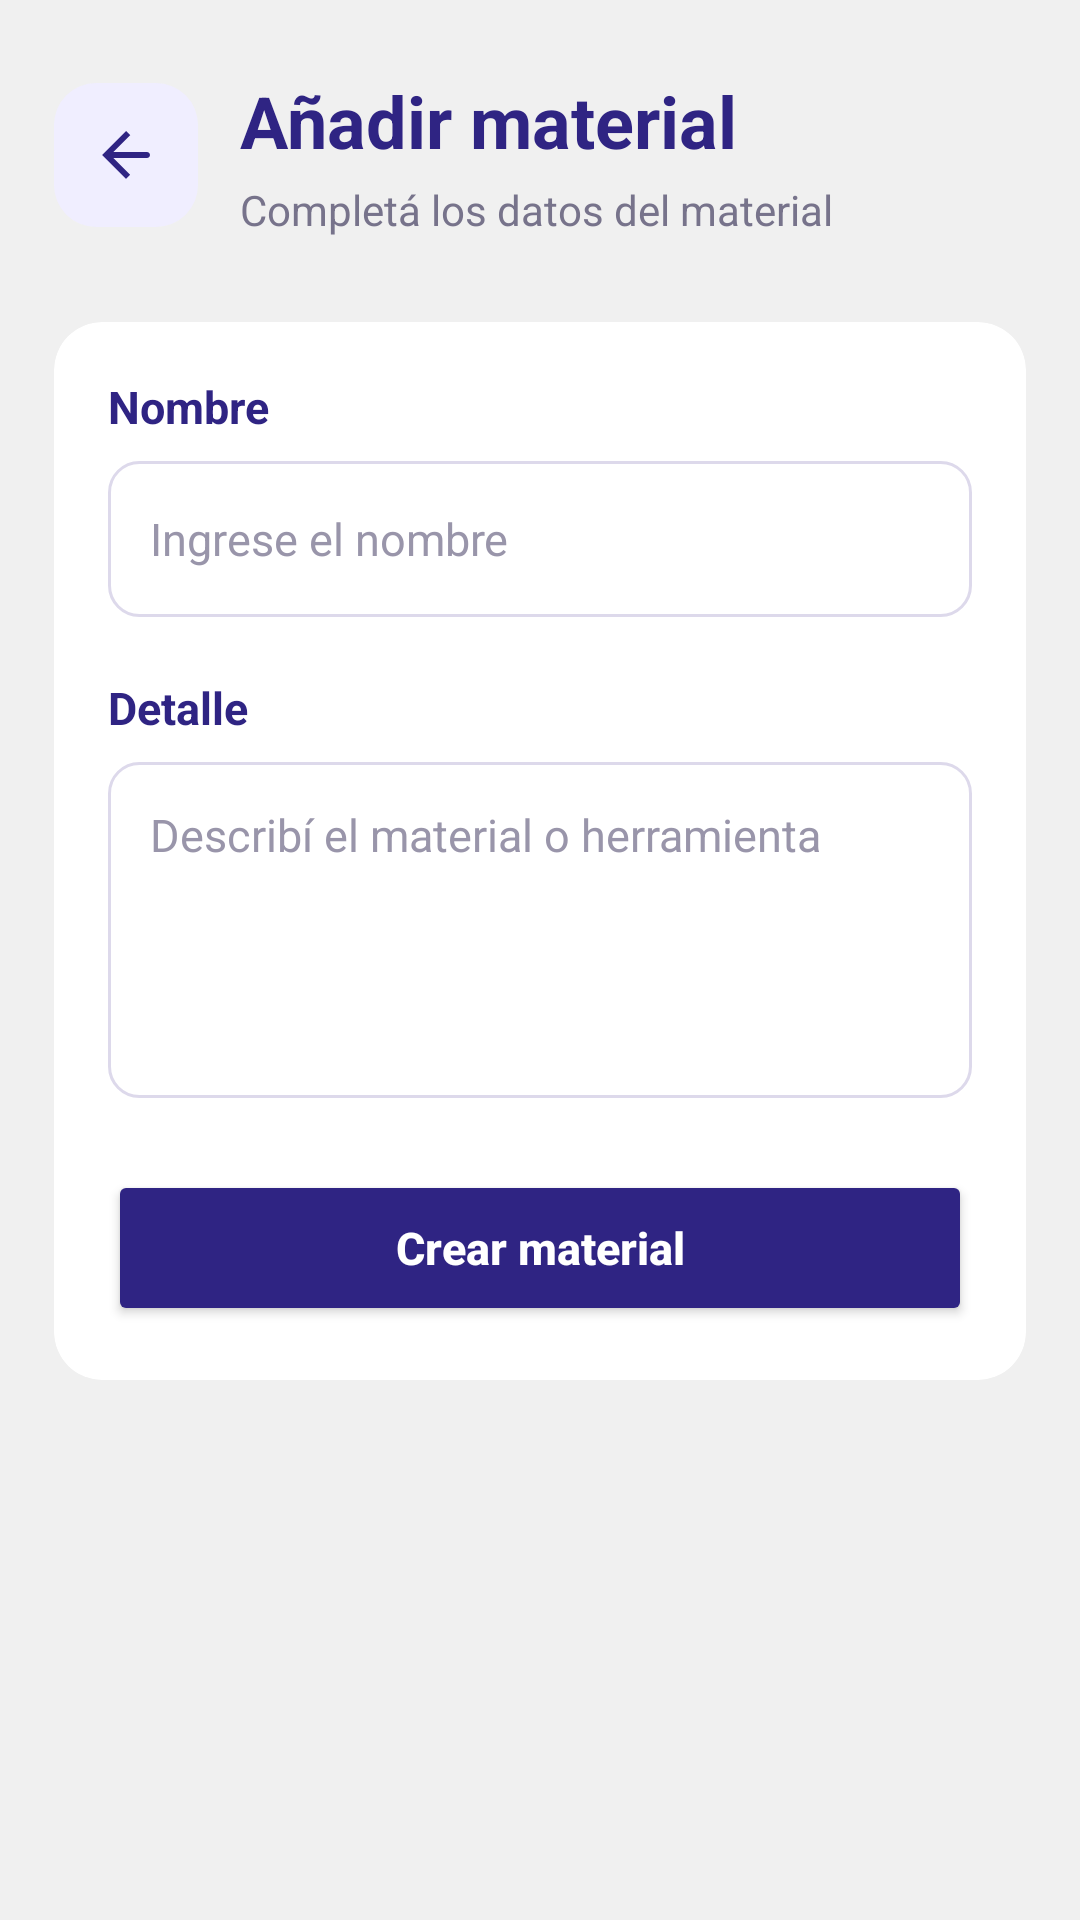

Screen size 1080 x 1920. Icon name, then its center in pixels as point (x, y):
Volver atrás: point (126, 155)
